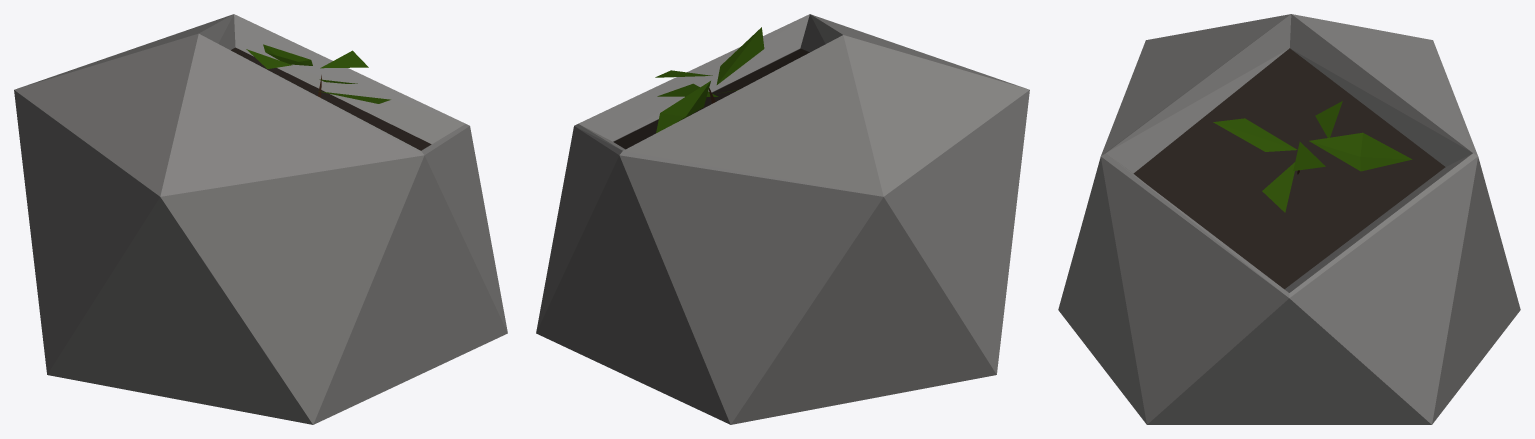
The model's file is plant-small.lod2.glb.
The picture shows the model from 3 angles, left to right: view 1: azimuth 30°, elevation 25°; view 2: azimuth 150°, elevation 25°; view 3: azimuth 270°, elevation 25°; orthographic projection.
Parts seen in each view (by area): view 1: Pot_Concrete_0; view 2: Pot_Concrete_0; view 3: Pot_Concrete_0.
Boxes of the visible parts, x1=… form: Pot_Concrete_0: x1=14, y1=14, x2=507, y2=424; Pot_Concrete_0: x1=536, y1=14, x2=1029, y2=424; Pot_Concrete_0: x1=1058, y1=14, x2=1520, y2=424.
Size of the model in its own units: 1.16 by 0.7973 by 1.12.
